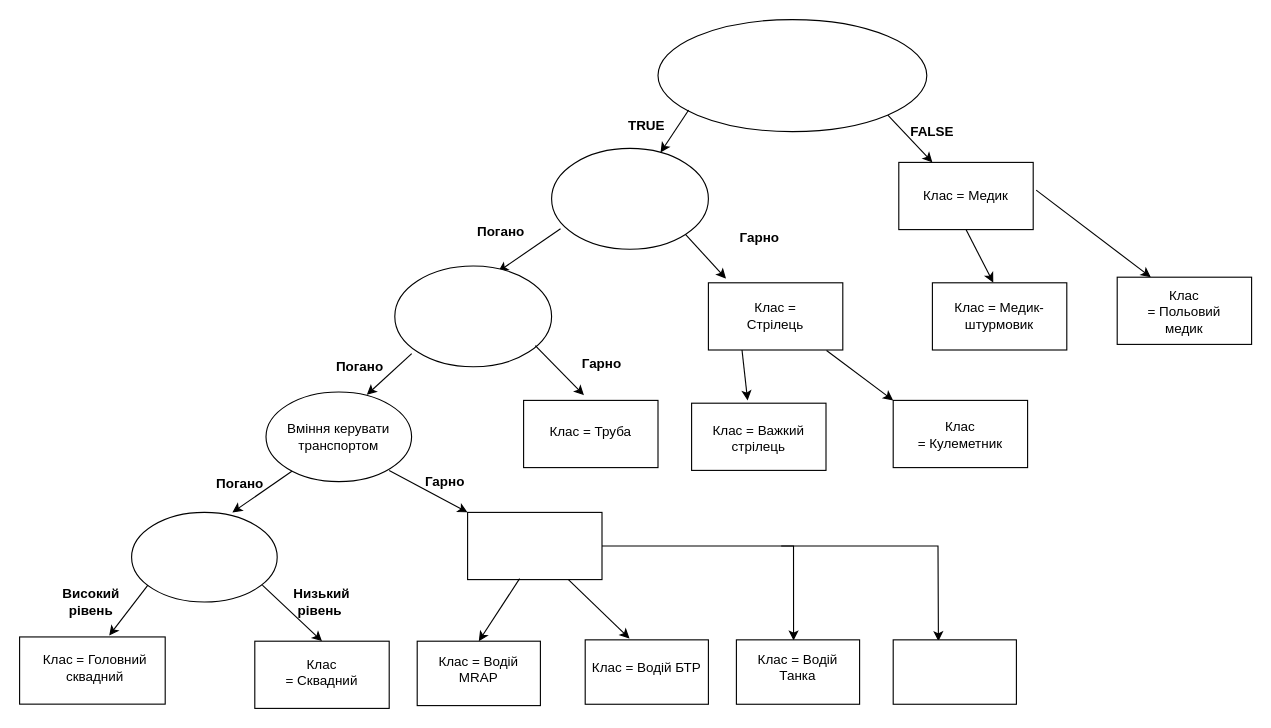
This 1271x728 diagram has some shape labels left out. Each missing label, with the box of its shape:
Вміння стріляти з тяжкого озброєння: (394, 265, 552, 367)
годин у грі < 10 годин?: (657, 18, 927, 132)
Знання ландшафту карти: (130, 511, 277, 602)
Клас = Водій: (466, 511, 602, 580)
Клас = Водій Постачання: (892, 639, 1016, 704)
Рівень володіння зброєю.: (550, 147, 708, 249)
